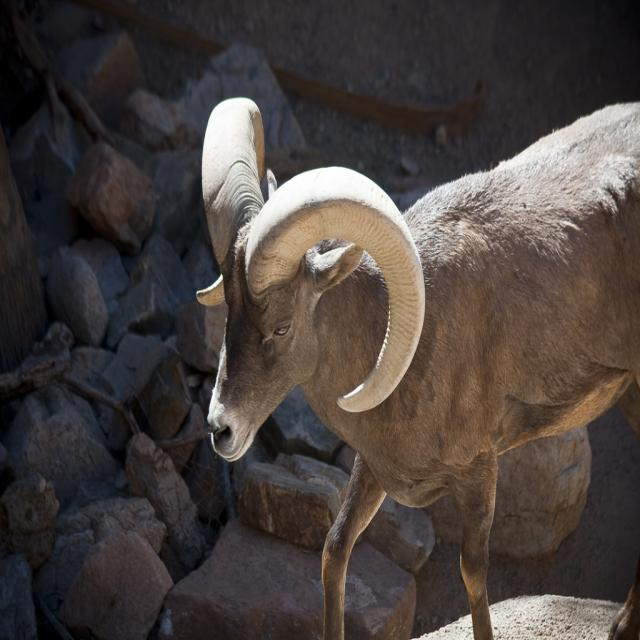Goat: (196, 98, 640, 640)
